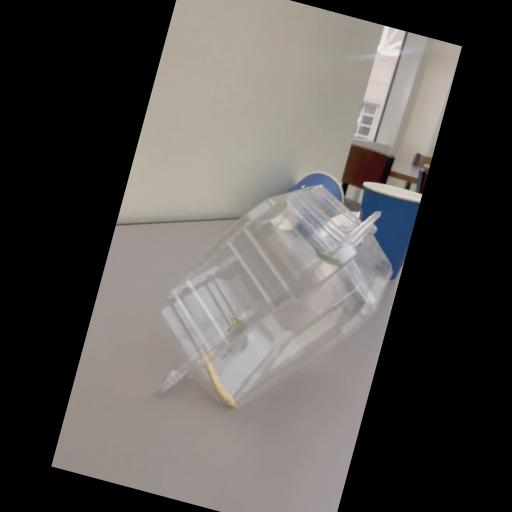lp_paper_cup: (338, 178, 422, 282), (287, 164, 350, 208)
small_plastic_container: (141, 156, 407, 438)
